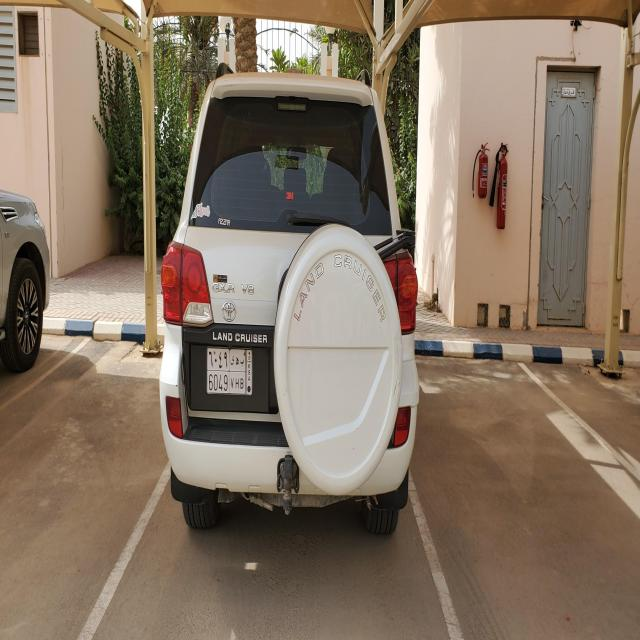license_plate: (206, 347, 253, 396)
